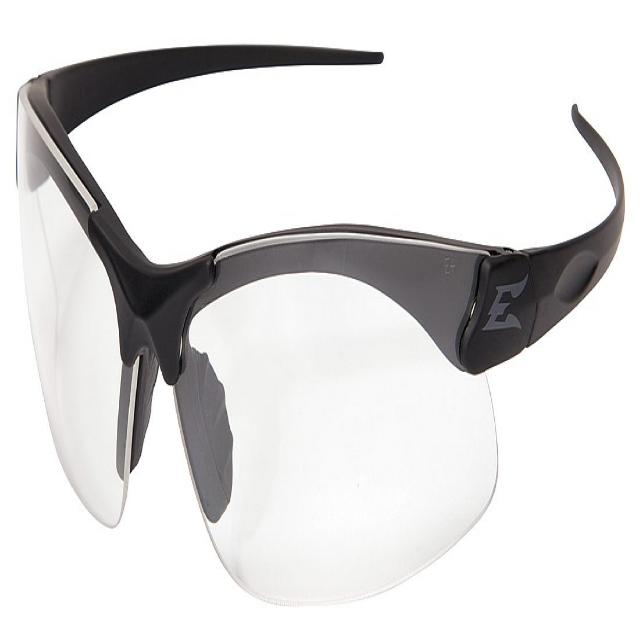Protective Glasses: (2, 29, 630, 606)
